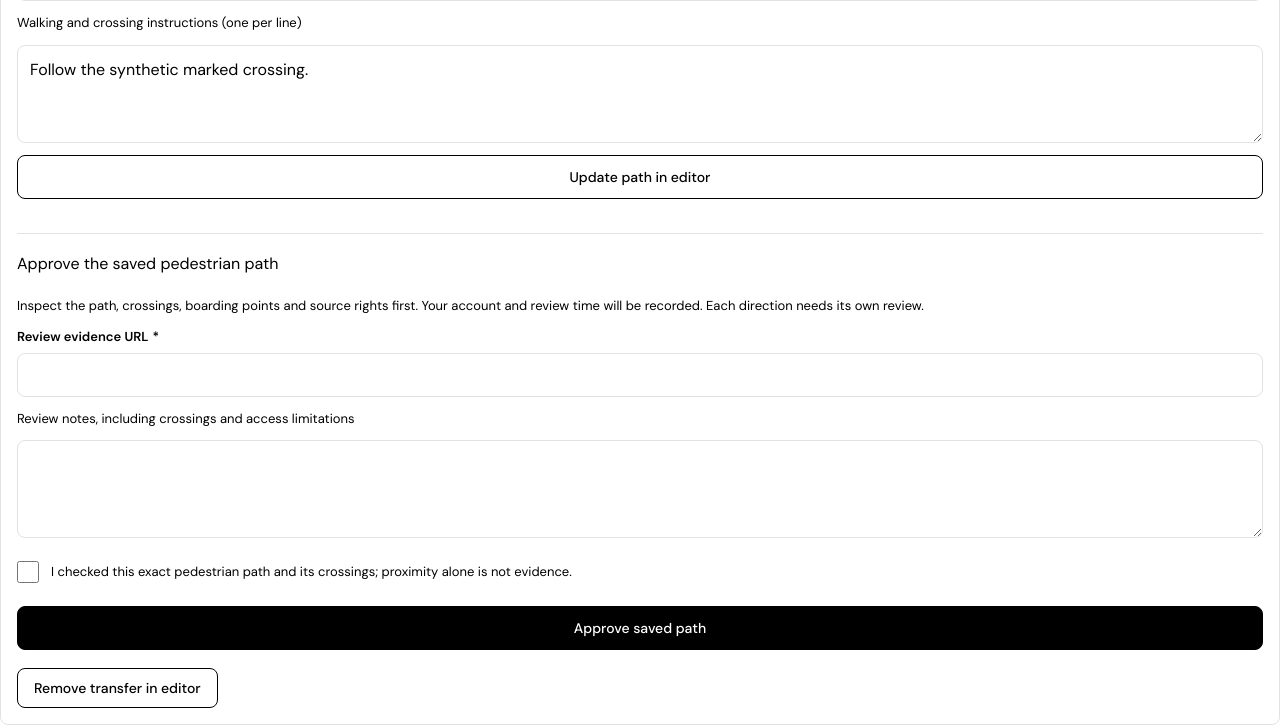
Test: Staff transfer review › submits explicit evidence and surfaces review rejection without a success claim
The width and height of the screenshot is (1280, 725).
(page scrolled)
Type "https://example.org/synthetic" into the field labelled "Review evidence URL" at {"x": 640, "y": 374}, box [17,352,1263,396]
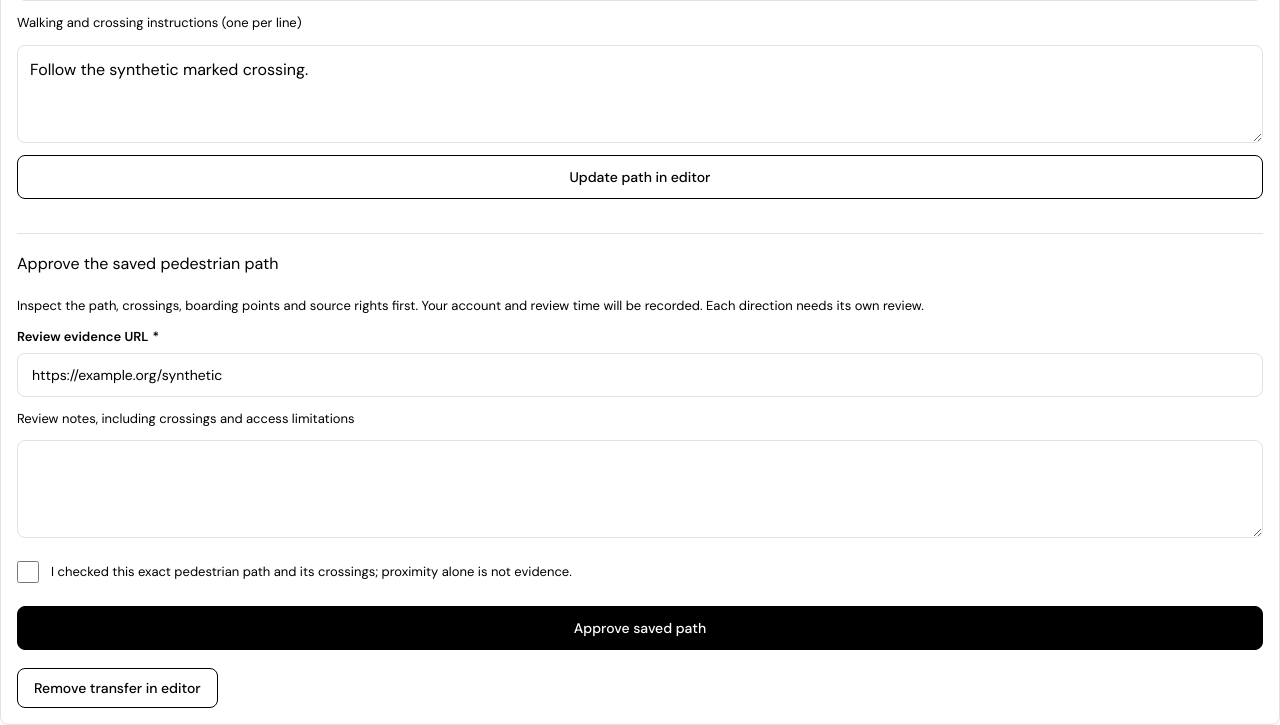
Type "The synthetic marked crossing was inspected for this test." into the text box labelled "Review notes, including crossings and access limitations" at {"x": 640, "y": 489}, box [17,440,1263,538]
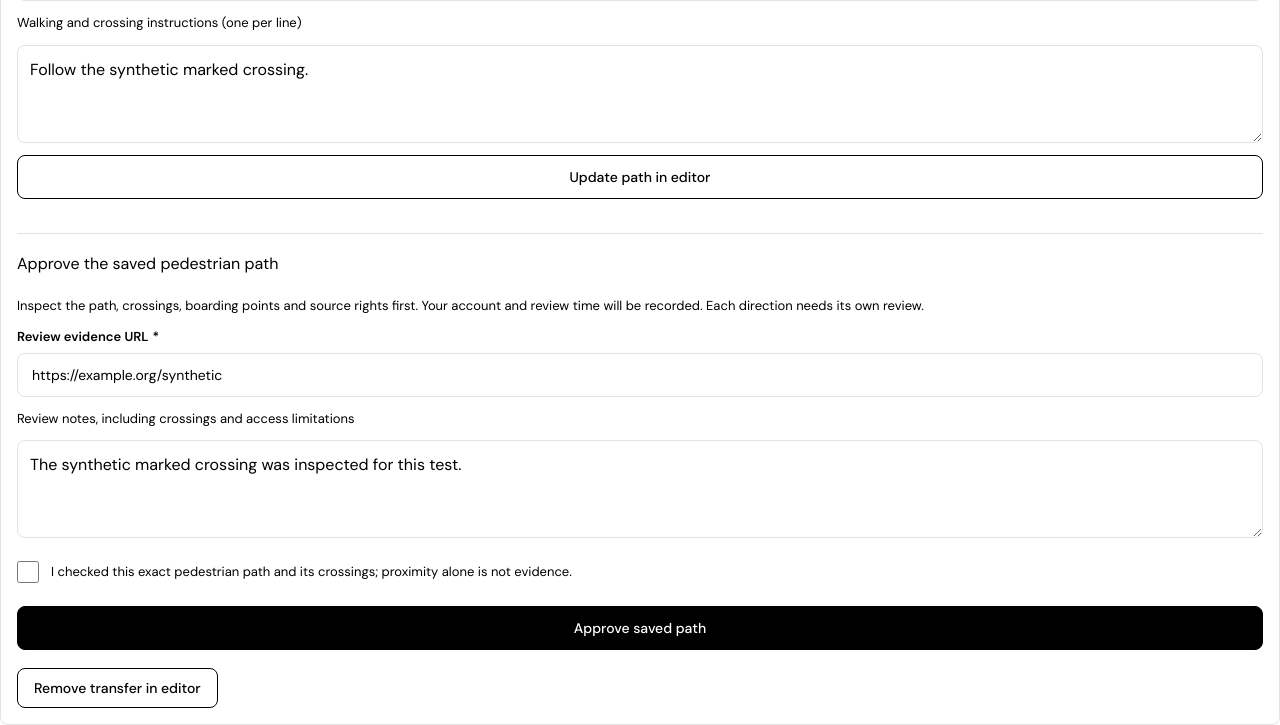
Click the checkbox at {"x": 28, "y": 572}, box [17,550,39,594]
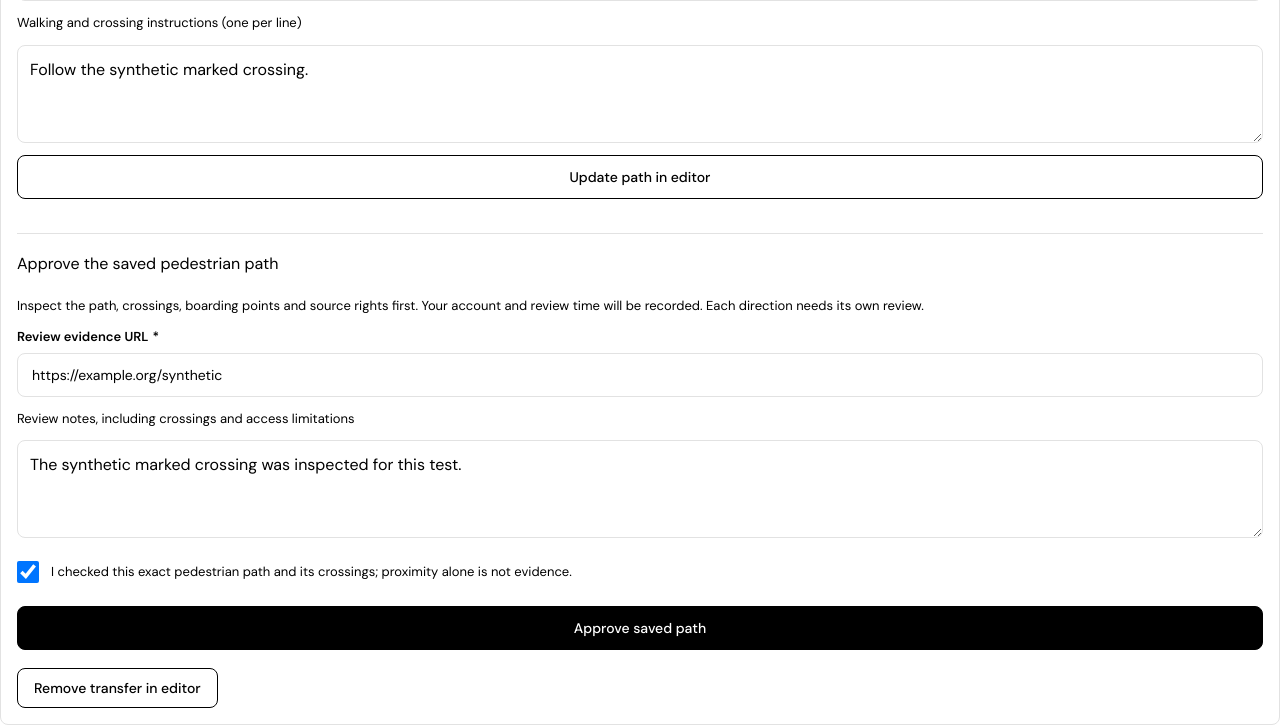
Click the button "Approve saved path" at {"x": 640, "y": 628}, box [17,606,1263,650]
(page scrolled)
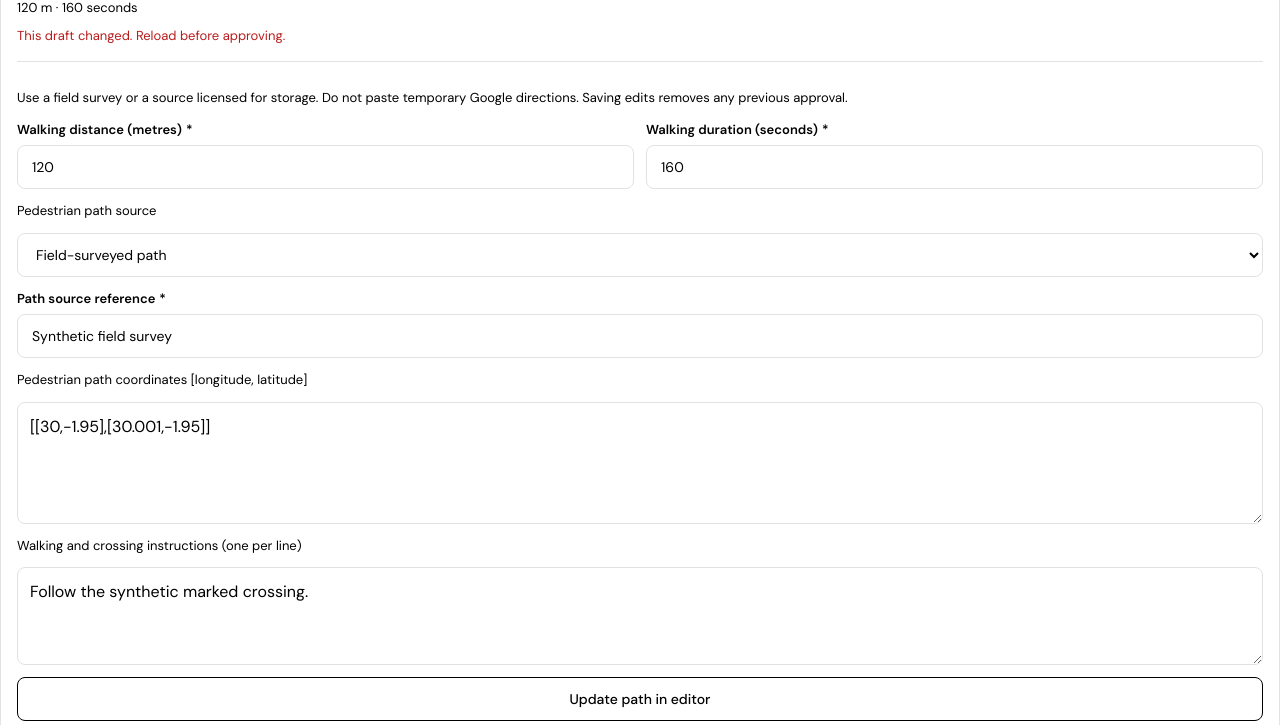
Check: the message shows "This draft changed", box [17,26,285,44]
